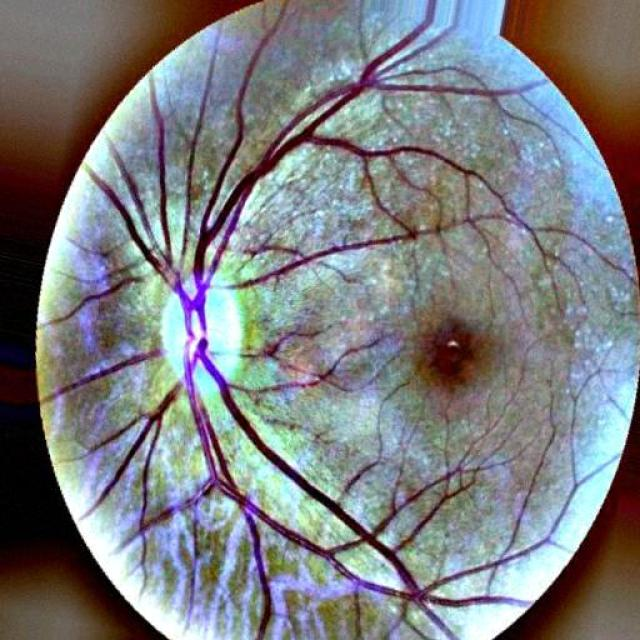Macula: (425, 320, 478, 385)
Nerves: (86, 0, 440, 602), (220, 199, 441, 288), (85, 381, 179, 515), (52, 350, 159, 398), (64, 269, 142, 319)
Optic Disk: (162, 271, 241, 396)
